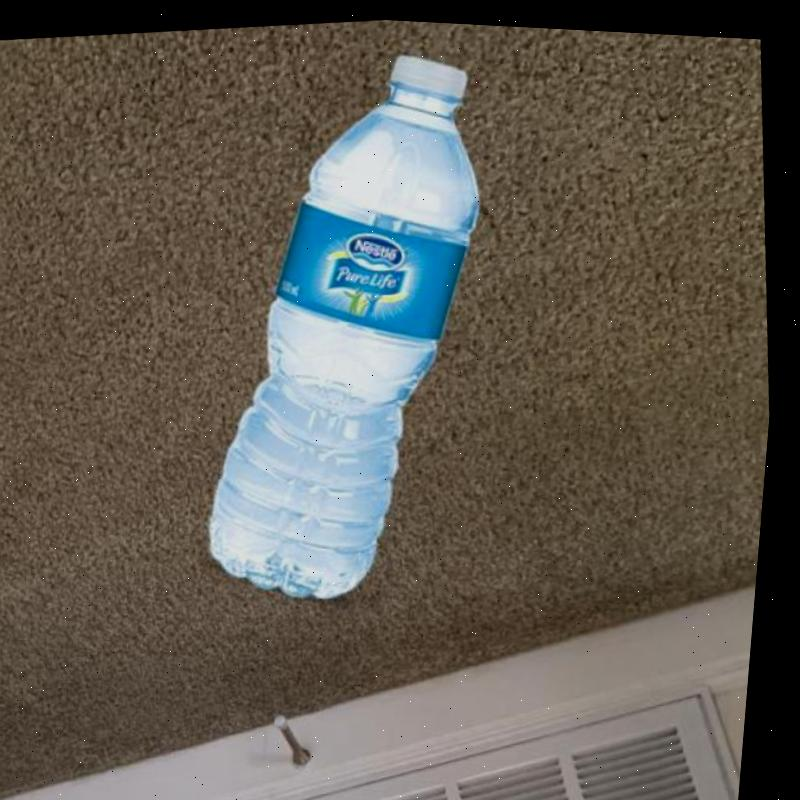botella: (159, 33, 532, 622)
